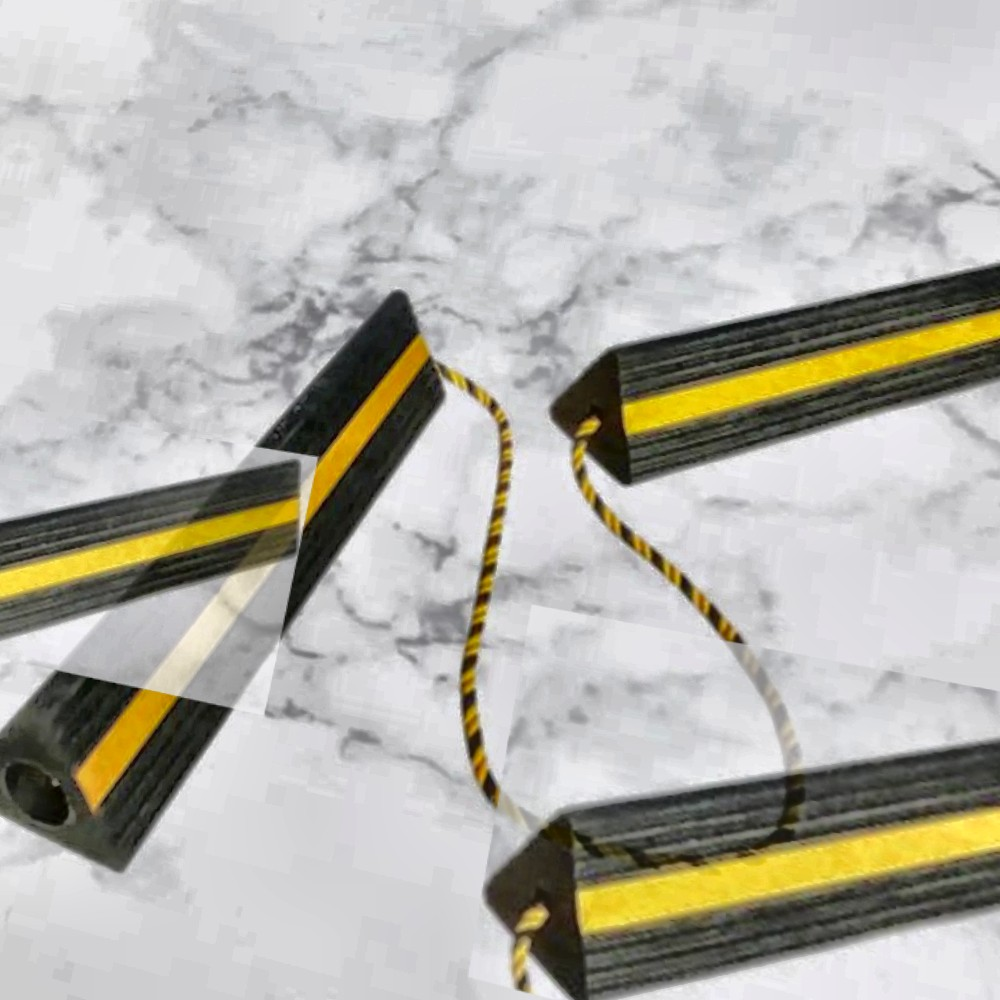chock: (0, 238, 481, 958), (460, 601, 1000, 1000), (530, 196, 1000, 554), (0, 398, 319, 719)
